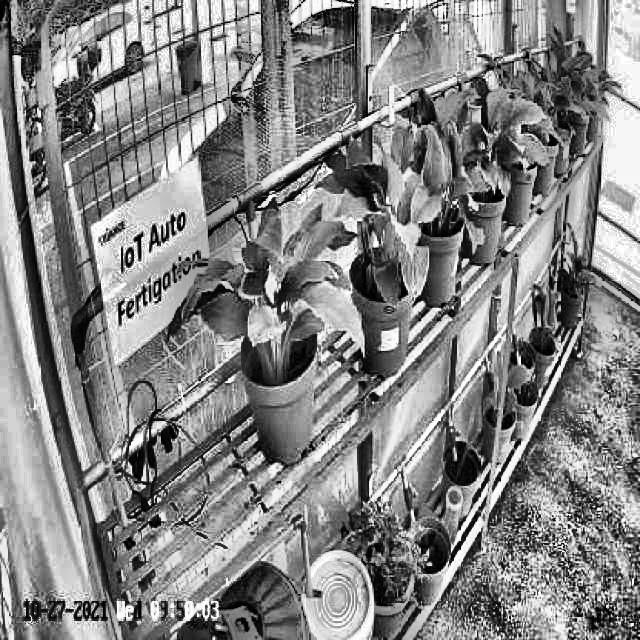plants: (164, 192, 363, 372), (338, 138, 430, 316), (388, 101, 486, 267), (432, 74, 551, 202)
